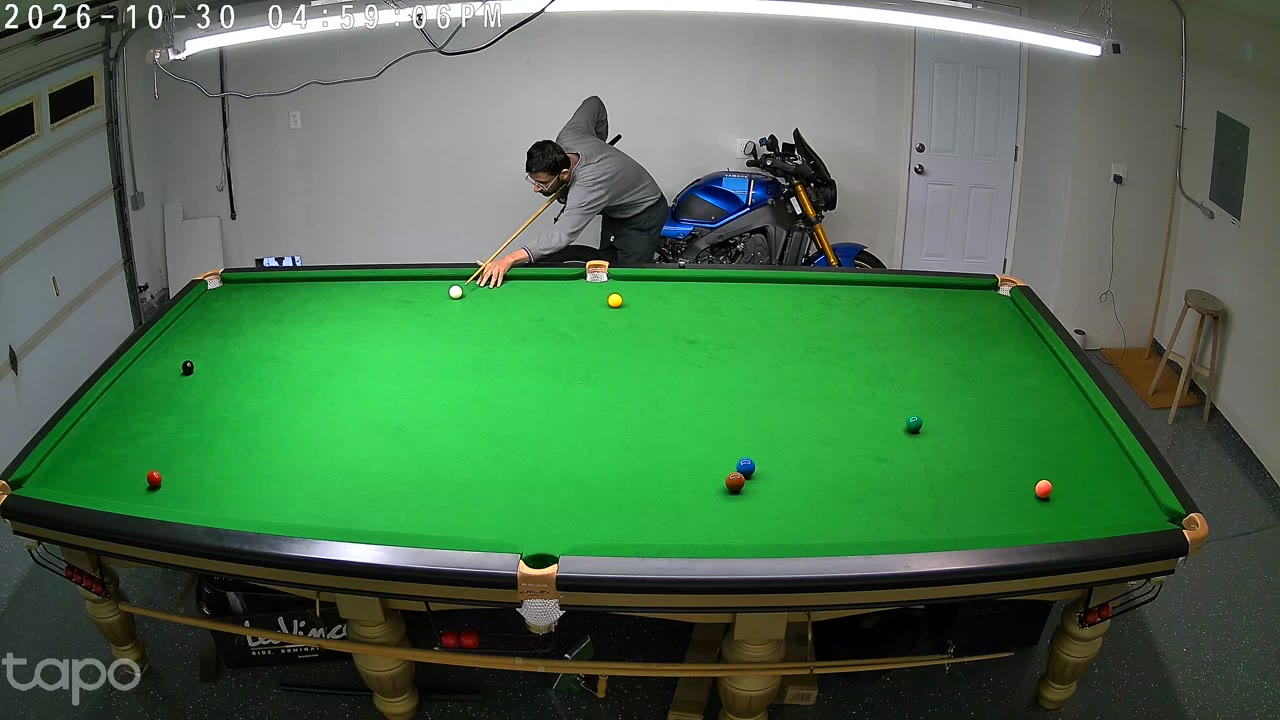black: (182, 358, 194, 378)
blue: (737, 455, 755, 482)
brown: (726, 471, 743, 496)
green: (906, 414, 922, 436)
red: (1035, 477, 1052, 502), (147, 468, 163, 492)
white: (450, 284, 462, 302)
yellow: (609, 293, 621, 310)
